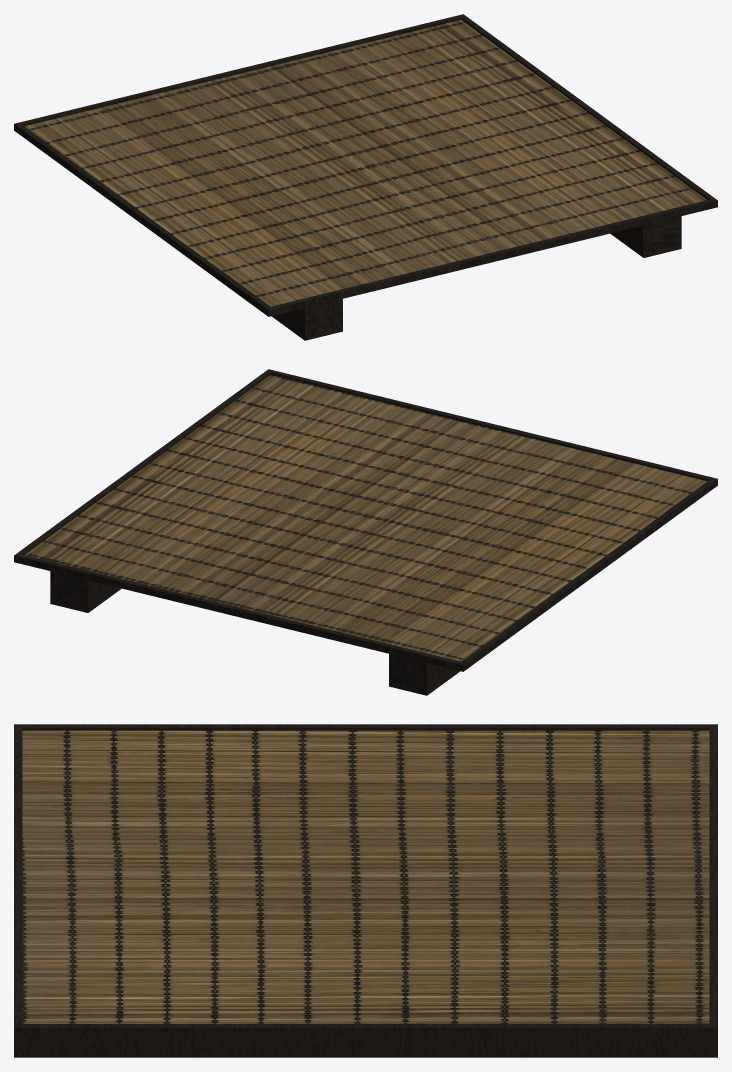
3 views of the same model, one above another, from view 1: azimuth 30°, elevation 25°; view 2: azimuth 150°, elevation 25°; view 3: azimuth 270°, elevation 25° (orthographic). The views are drawn at different scales.
Parts seen in each view (by area): view 1: mat1_Baked; view 2: mat1_Baked; view 3: mat1_Baked.
Part boxes in pixels (bbox=[...]): mat1_Baked: bbox=[14, 14, 717, 340]; mat1_Baked: bbox=[14, 369, 717, 695]; mat1_Baked: bbox=[14, 724, 717, 1057].
Size of the model in its own units: 232 by 19.54 by 228.
